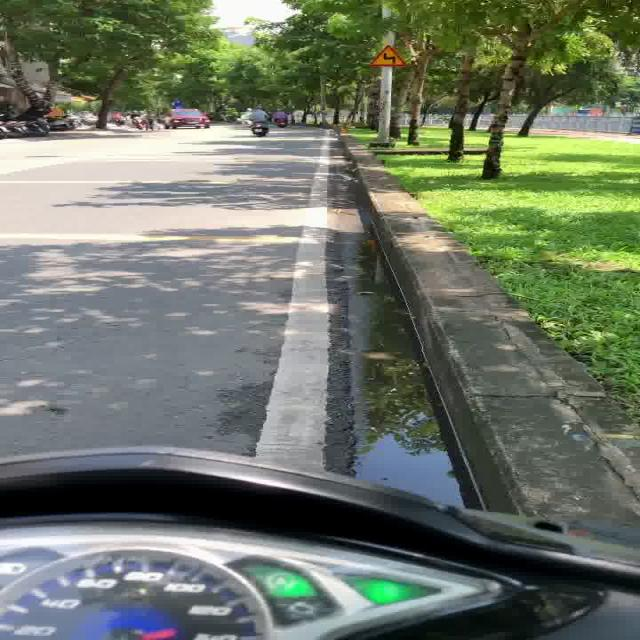Bien bao nhieu cho ngoat nguy hiem lien tiep: (364, 42, 411, 68)
